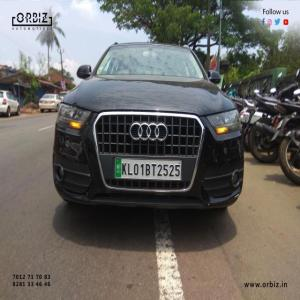Plate: (115, 158, 182, 181)
